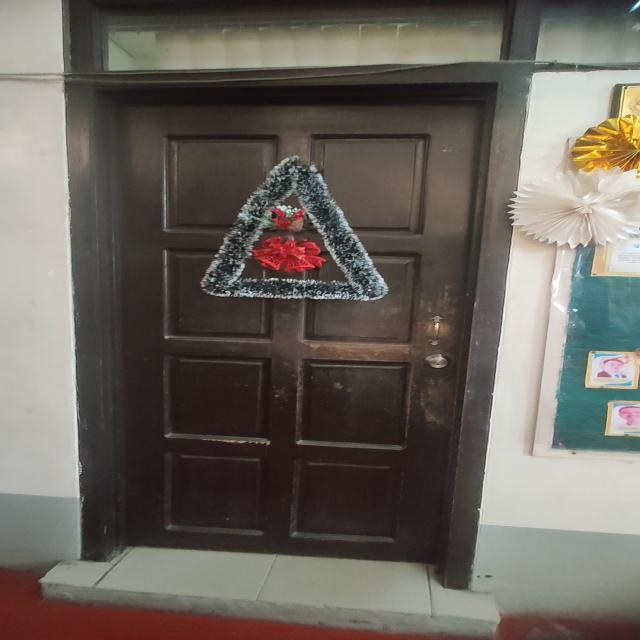door: (120, 93, 496, 559)
